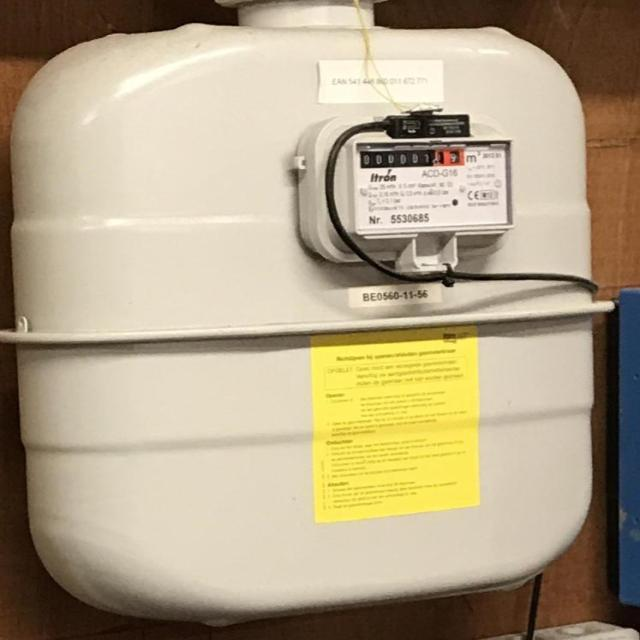gaz_meter: (353, 140, 517, 228)
indication: (359, 147, 466, 167)
